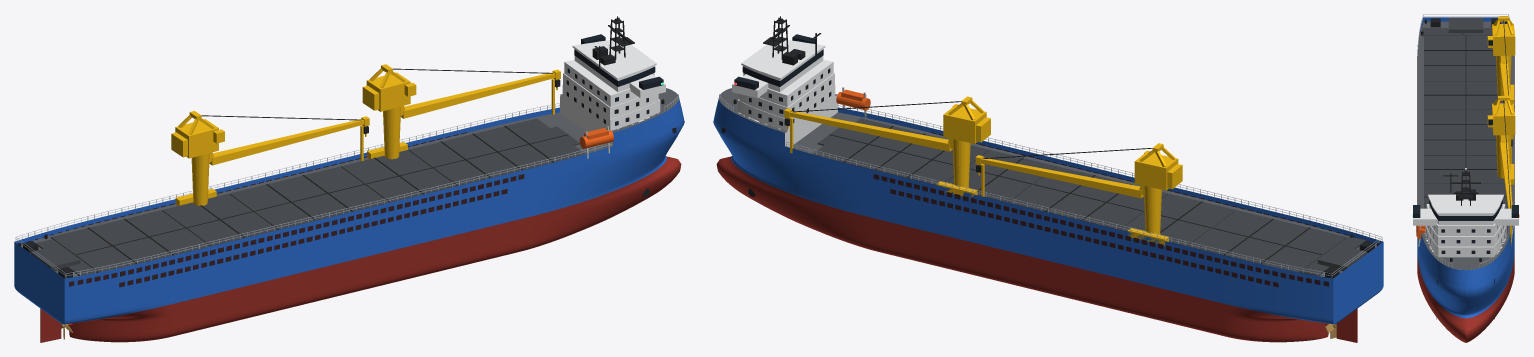
File: bbc_sao_paulo_lod0.glb
The picture shows the model from 3 angles, left to right: view 1: azimuth 30°, elevation 25°; view 2: azimuth 150°, elevation 25°; view 3: azimuth 270°, elevation 25°; orthographic projection. The views are drawn at different scales.
Visible parts, largest first — view 1: hull_shell, hatch_forward, hatch_center, hatch_aft, hull_side_openings, accommodation, hatch_mid_forward, hatch_mid_aft, railings, cargo_deck, bridge, forecastle_deck (+12 smaller); view 2: hull_shell, hatch_aft, hatch_forward, hatch_center, hull_side_openings, accommodation, railings, hatch_mid_aft, hatch_mid_forward, cargo_deck, bridge, forecastle_deck (+13 smaller); view 3: hull_shell, hatch_aft, hatch_center, accommodation, hatch_mid_aft, hatch_mid_forward, bridge, cargo_deck, forecastle_deck, crane_02_rotating_house, crane_01_rotating_house, hatch_forward (+15 smaller).
Part boxes in pixels (x1,y1,x2,y2): hull_shell: (14,89,684,342); hatch_forward: (408,118,585,185); hatch_center: (229,166,389,229); hatch_aft: (51,210,210,272); hull_side_openings: (21,132,524,287); accommodation: (562,60,660,146); hatch_mid_forward: (341,150,456,202); hatch_mid_aft: (162,193,277,246); railings: (15,94,678,277); cargo_deck: (21,112,607,276); bridge: (572,40,656,91); forecastle_deck: (30,88,678,271); hull_shell: (713,89,1383,342); hatch_aft: (1187,210,1346,272); hatch_forward: (812,118,989,185); hatch_center: (1008,166,1168,229); hull_side_openings: (873,132,1376,287); accommodation: (737,60,836,147); railings: (719,94,1382,277); hatch_mid_aft: (1120,193,1235,246); hatch_mid_forward: (946,150,1056,202); cargo_deck: (793,112,1376,276); bridge: (741,40,825,91); forecastle_deck: (719,88,1367,271); hull_shell: (1417,17,1514,342); hatch_aft: (1424,35,1496,81); hatch_center: (1424,109,1496,155); accommodation: (1424,204,1506,269); hatch_mid_aft: (1424,81,1504,109); hatch_mid_forward: (1424,156,1504,183); bridge: (1428,189,1503,225); cargo_deck: (1417,21,1514,242); forecastle_deck: (1421,17,1510,269); crane_02_rotating_house: (1487,95,1515,143); crane_01_rotating_house: (1487,16,1515,63); hatch_forward: (1424,184,1507,233).
Size of the model in its own units: 150 by 42.2 by 25.5.
